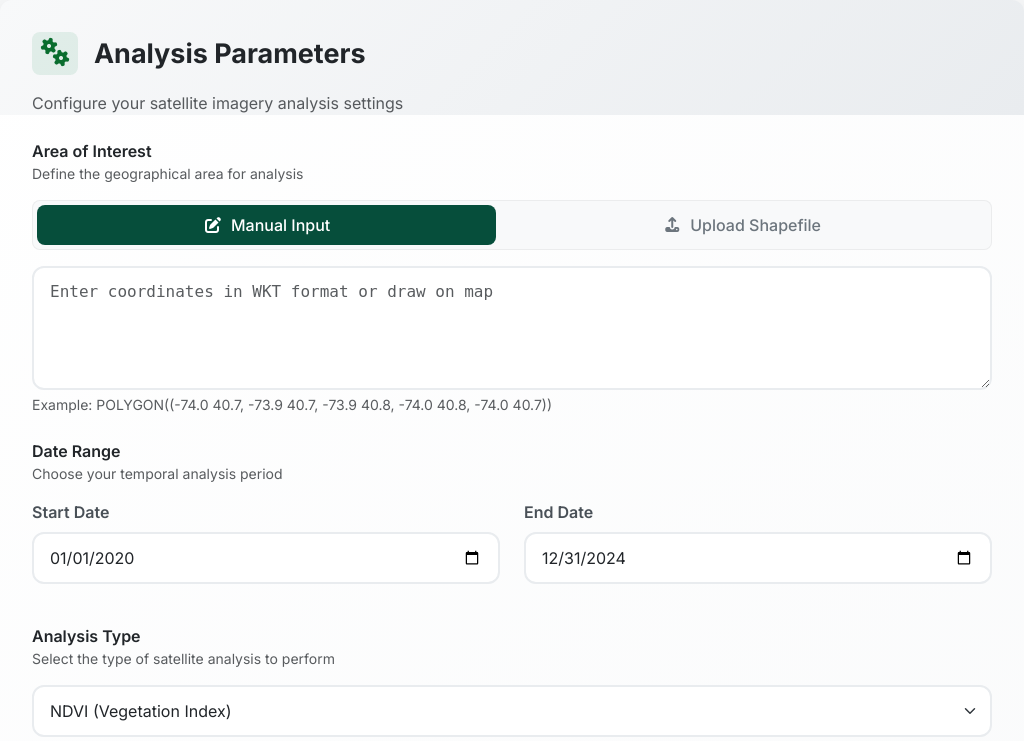
it: AnalysisForm dates › explains an invalid date instead of submitting
Type "2019-01-01" into the date field labelled "End Date".
click(758, 558); type("2019-01-01")  # box [524,532,992,584]
(page scrolled)
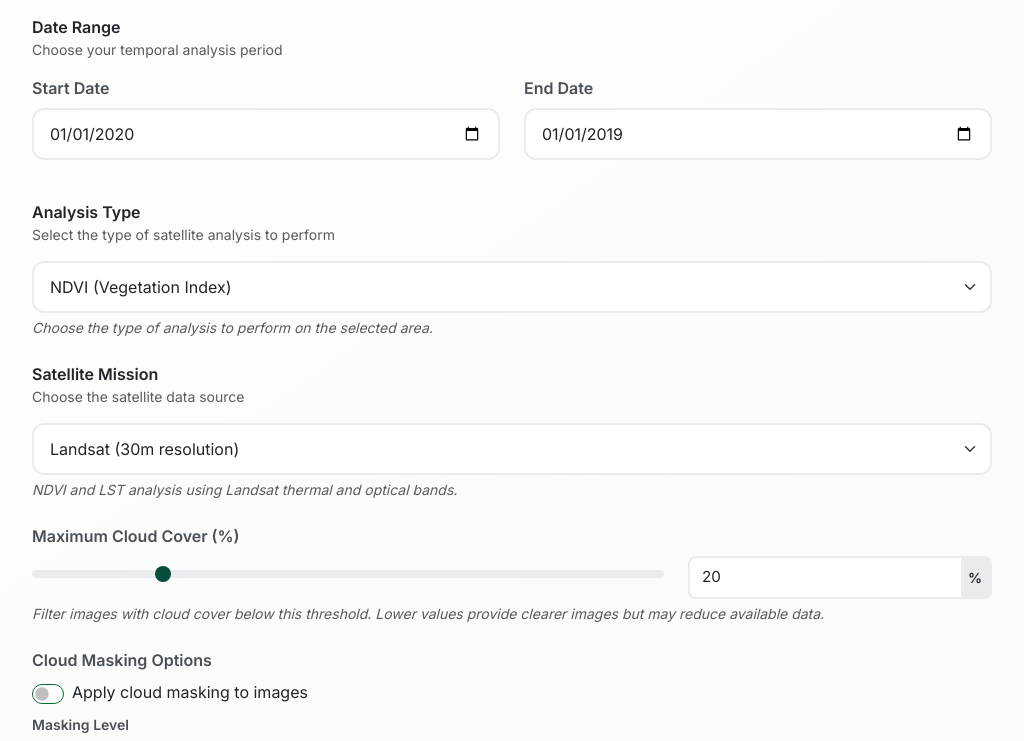
Submit the form
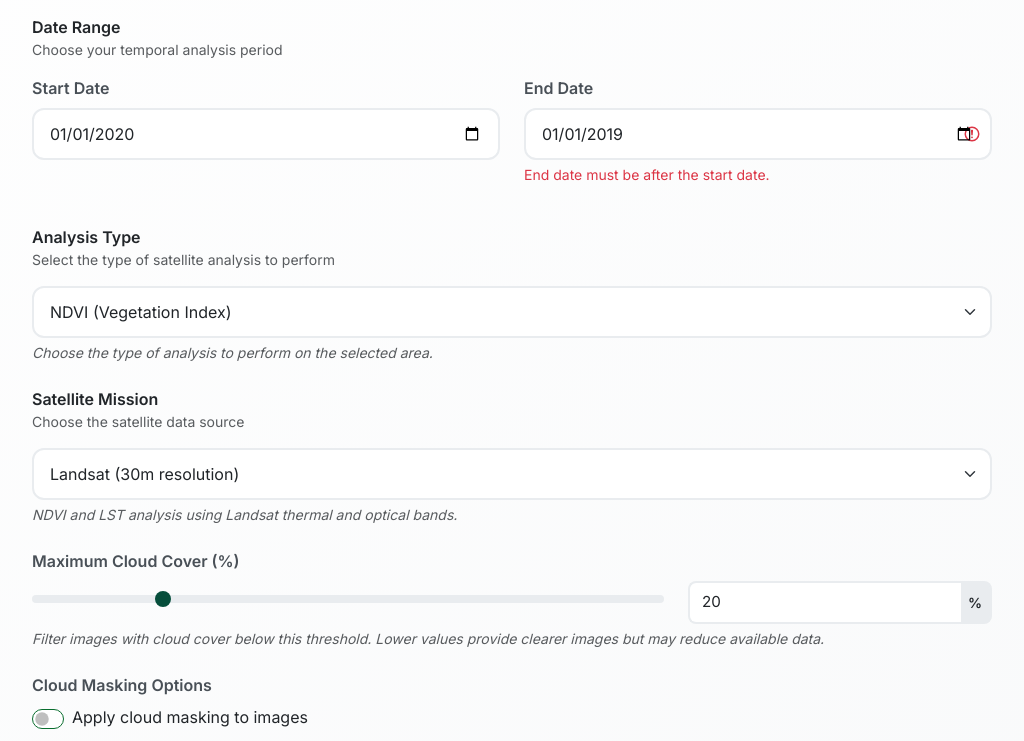
Expected: the text "End date must be after the start date." is shown, [524,166,770,183]
